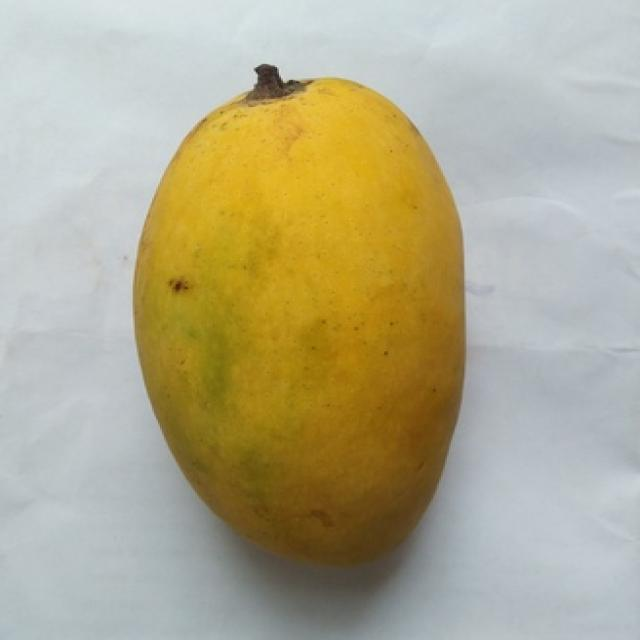Mango: (133, 67, 464, 562)
